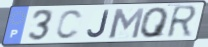3: (27, 8, 55, 43)
C: (54, 9, 84, 41)
J: (86, 9, 111, 39)
M: (108, 7, 146, 40)
Q: (139, 6, 171, 39)
R: (165, 4, 199, 40)
